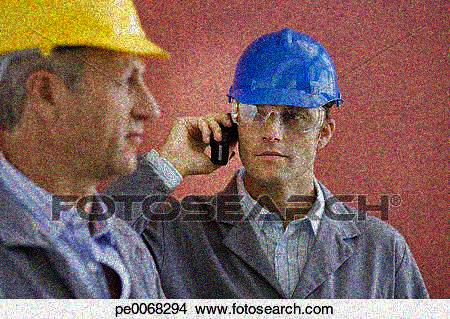helmet: (1, 1, 172, 180), (224, 29, 343, 185)
